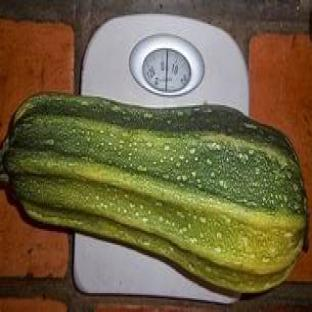Zucchini: (2, 95, 306, 291)
